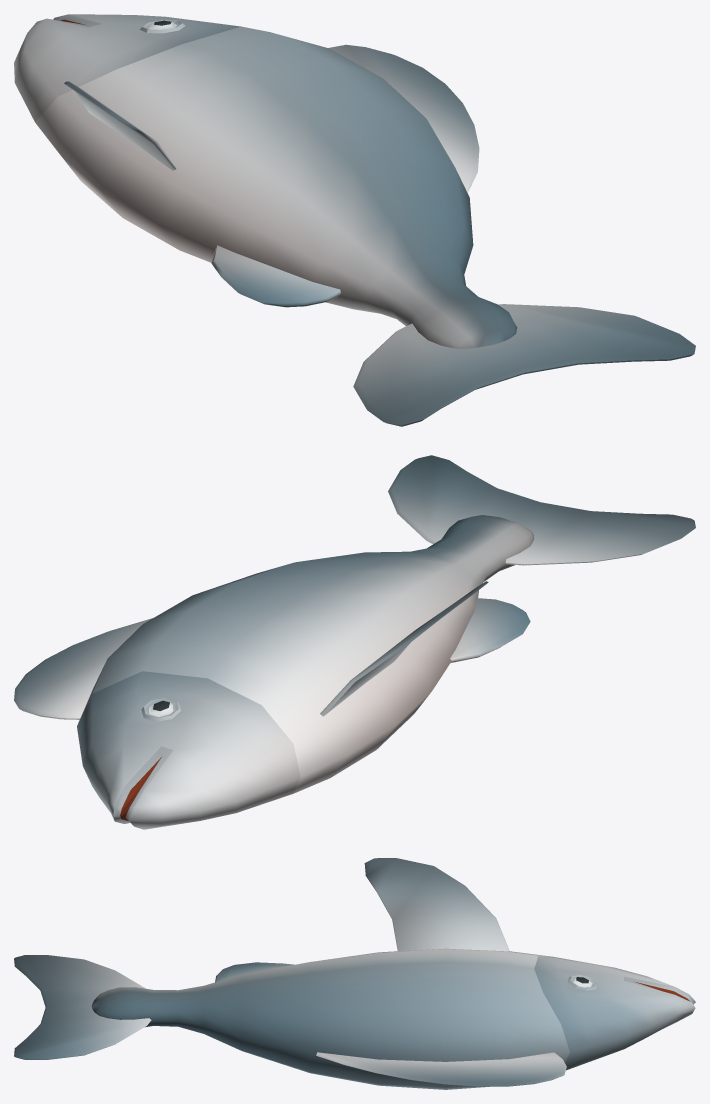
Rendered from fish_001.fbx.
The picture shows the model from 3 angles, top to bottom: view 1: azimuth 30°, elevation 25°; view 2: azimuth 150°, elevation 25°; view 3: azimuth 270°, elevation 25°; orthographic projection. The views are drawn at different scales.
Visible parts, largest first — view 1: fish_001; view 2: fish_001; view 3: fish_001.
Part boxes in pixels (bbox=[...]): fish_001: bbox=[14, 14, 695, 426]; fish_001: bbox=[14, 455, 695, 829]; fish_001: bbox=[14, 858, 695, 1089].
Size of the model in its own units: 15.87 by 32.88 by 7.57.
